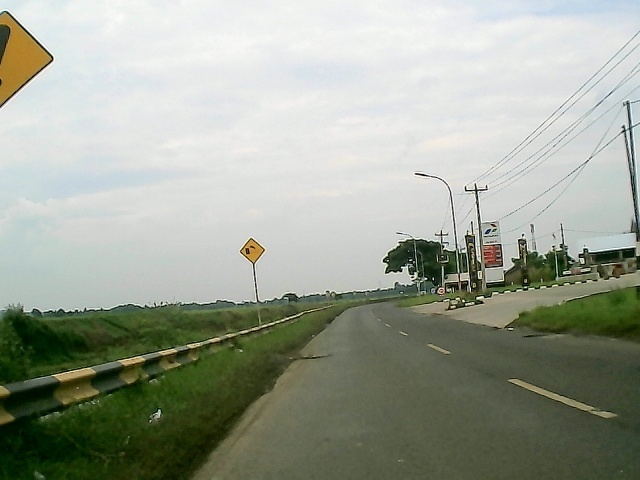Peringatan tepi air: (239, 235, 266, 266)
